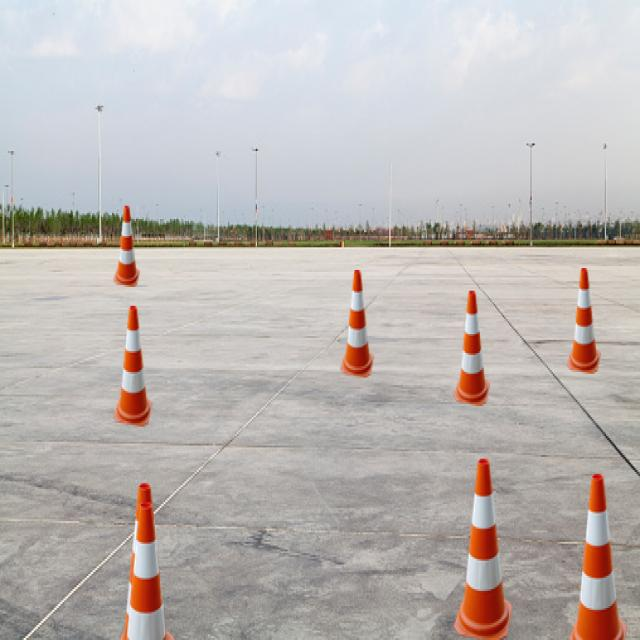large_orange_cone: (453, 459, 512, 640), (567, 474, 627, 640), (114, 483, 175, 640), (113, 502, 178, 640), (114, 306, 152, 427), (454, 291, 490, 406), (340, 270, 374, 378), (567, 268, 601, 374), (113, 206, 140, 287)
